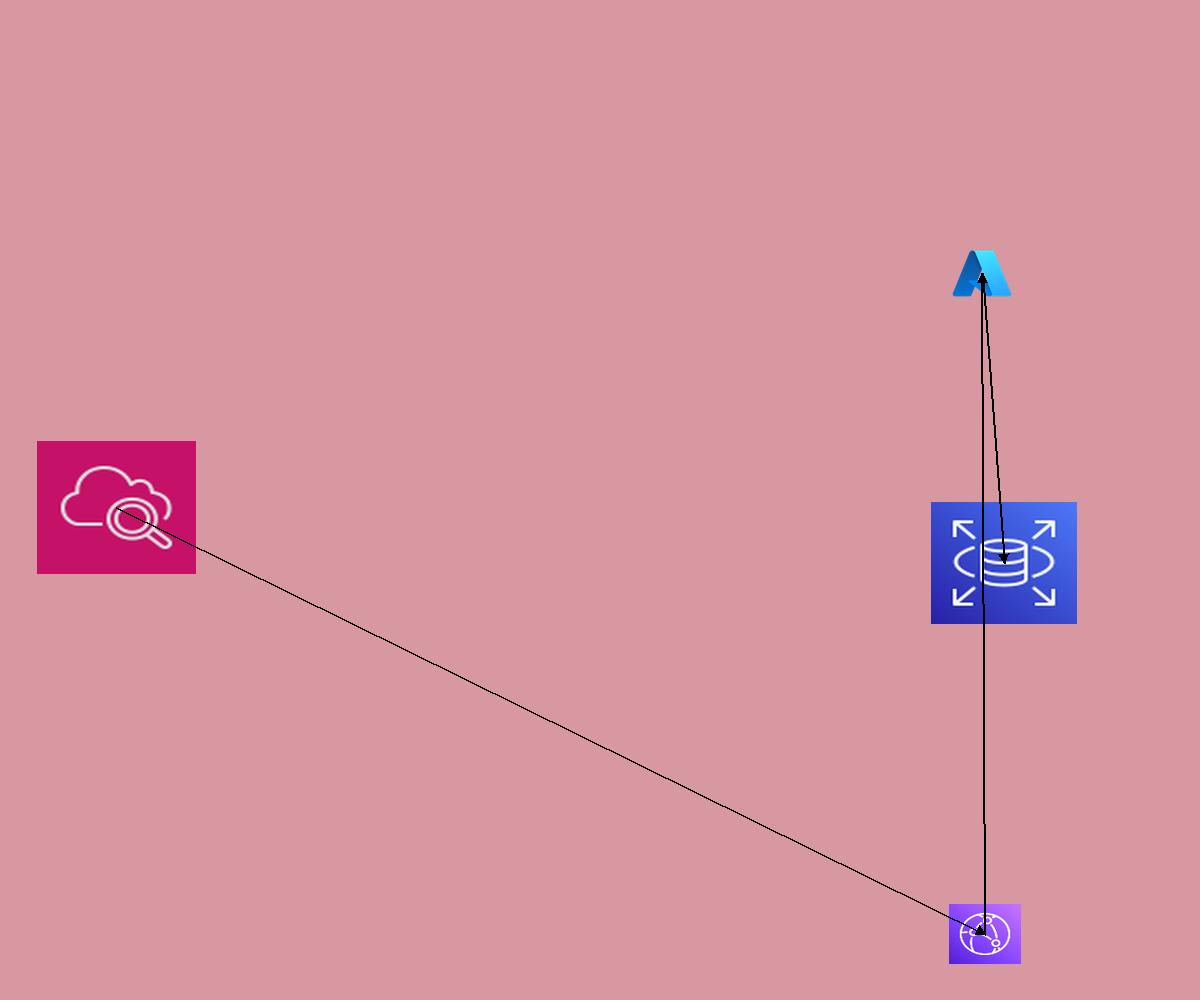AWS-CloudFront: (949, 904, 1021, 964)
AWS-CloudWatch: (37, 441, 196, 574)
AWS-RDS: (931, 502, 1077, 624)
Azure_services: (950, 247, 1014, 300)
